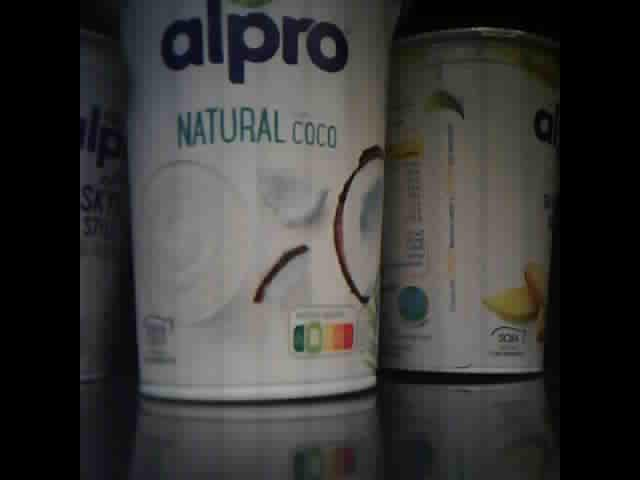alpro: (115, 1, 404, 405), (385, 25, 566, 374), (81, 21, 145, 383)
